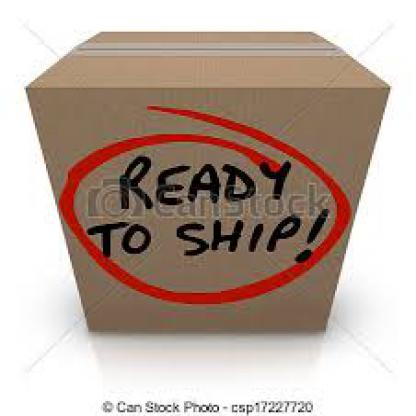paquete: (17, 11, 401, 356)
